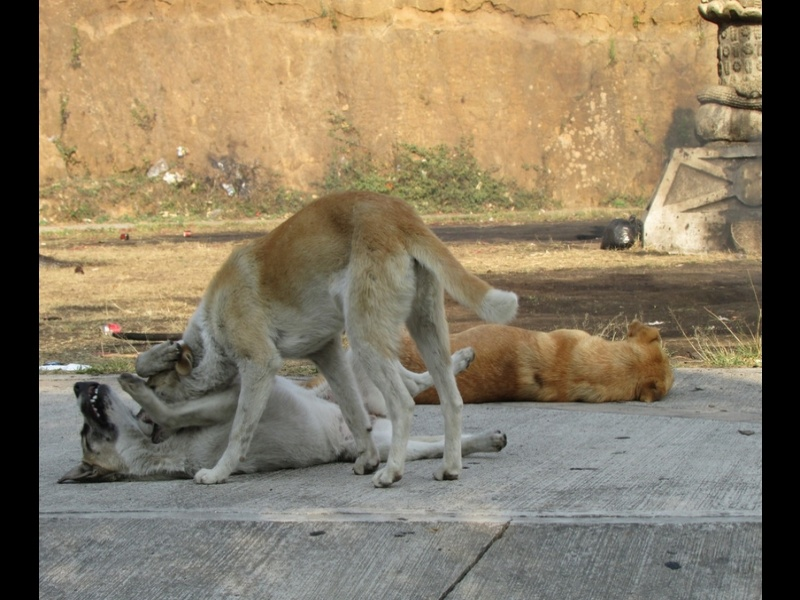dog: (137, 176, 523, 510), (62, 344, 520, 493), (340, 318, 678, 408)
